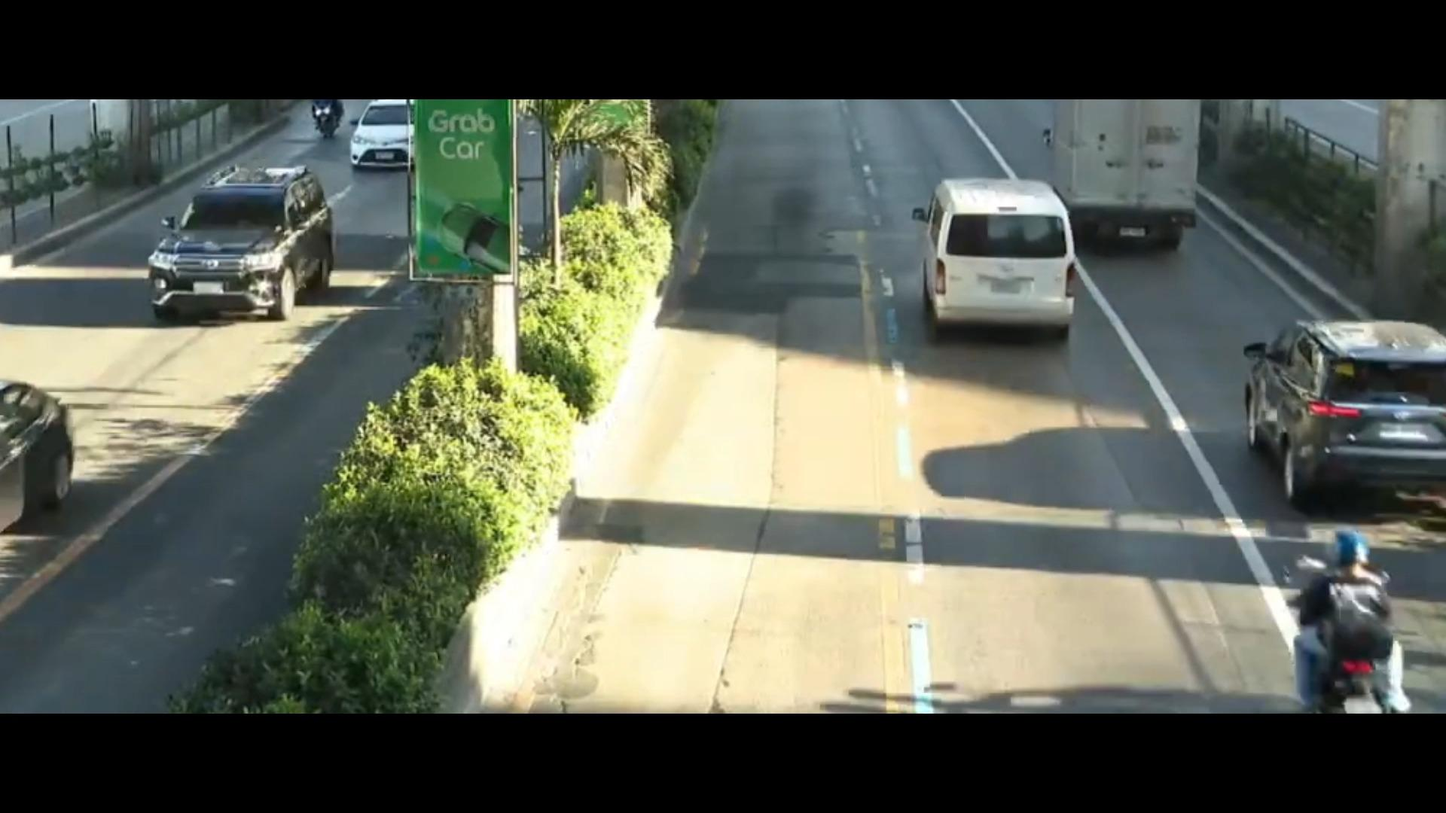Motorcycle: (1256, 529, 1435, 714), (307, 93, 356, 146)
SUV: (120, 149, 360, 360), (1239, 307, 1446, 512)
Sedan: (343, 101, 414, 181)
Truck: (1022, 93, 1239, 252)
Van: (900, 172, 1109, 349)
